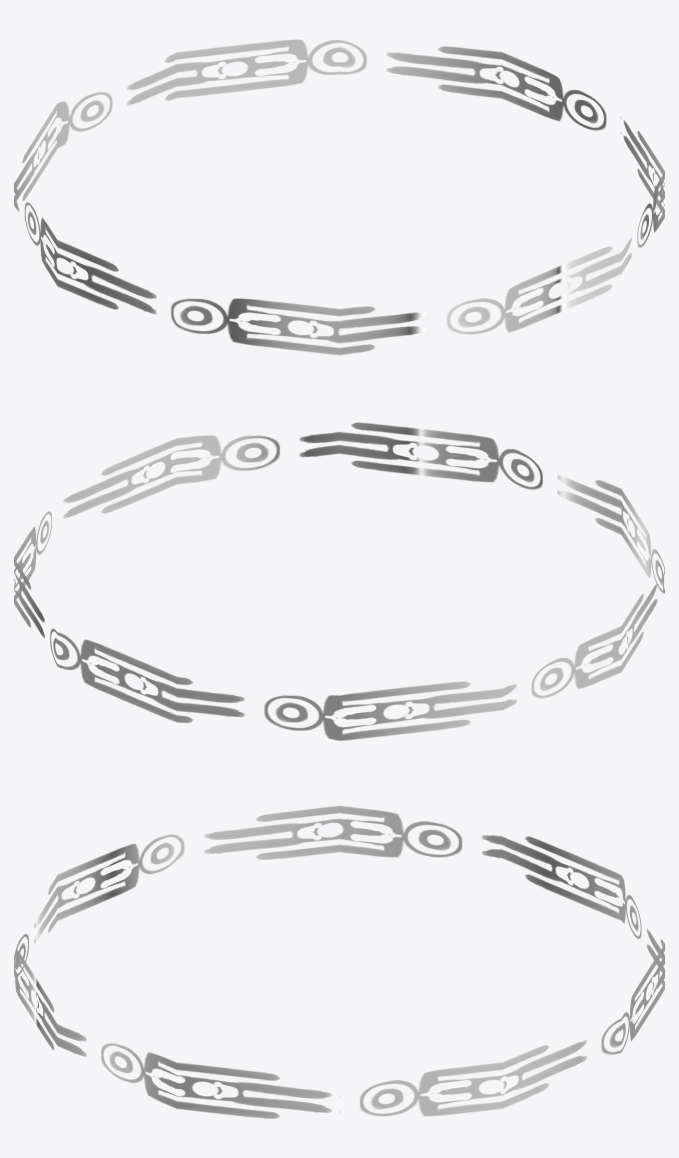
File: ParagonRing.glb
3 views of the same model, one above another, from view 1: azimuth 30°, elevation 25°; view 2: azimuth 150°, elevation 25°; view 3: azimuth 270°, elevation 25° (orthographic).
Parts seen in each view (by area): view 1: Cylinder; view 2: Cylinder; view 3: Cylinder.
Boxes of the visible parts, x1=… form: Cylinder: x1=14, y1=39, x2=664, y2=355; Cylinder: x1=14, y1=422, x2=664, y2=740; Cylinder: x1=14, y1=805, x2=664, y2=1118.
Bounding box in the file's own units: 10.14 × 1.42 × 10.14.
1 material, 1 textured.
